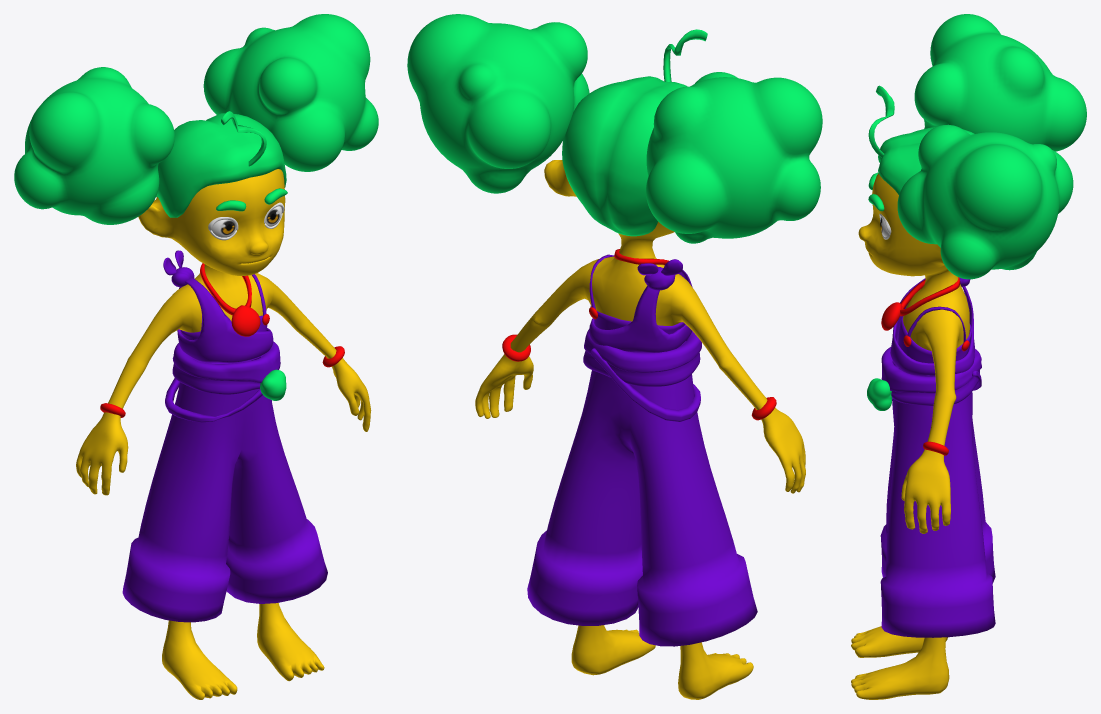
File: Mode_Urle.fbx
The picture shows the model from 3 angles, left to right: view 1: azimuth 30°, elevation 25°; view 2: azimuth 150°, elevation 25°; view 3: azimuth 270°, elevation 25°; orthographic projection. The views are drawn at different scales.
Parts seen in each view (by area): view 1: Urle_Pants, Urle_Body, Urle_Hair_High_L, Urle_Hair_High_R, Urle_Scalp, Urle_Top_Loose_, Urle_Belt, Urle_Hand_R, Urle_Hand_L, Urle_Belt_Low, Urle_Jewlery, Urle_CloudAccessory (+1 smaller); view 2: Urle_Pants, Urle_Hair_High_R, Urle_Hair_High_L, Urle_Body, Urle_Scalp, Urle_Belt, Urle_Top_Loose_, Urle_Hand_R, Urle_Hand_L, Urle_Belt_Low, Urle_StrandOfHair; view 3: Urle_Pants, Urle_Hair_High_L, Urle_Hair_High_R, Urle_Body, Urle_Hand_L, Urle_Belt, Urle_Scalp, Urle_Top_Loose_, Urle_Top, Urle_CloudAccessory, Urle_Necklace, Urle_StrandOfHair (+1 smaller).
Part boxes in pixels (left/top/right/bottom): Urle_Pants: left=122, top=353, right=327, bottom=622; Urle_Body: left=108, top=169, right=336, bottom=699; Urle_Hair_High_L: left=203, top=14, right=378, bottom=171; Urle_Hair_High_R: left=14, top=67, right=174, bottom=224; Urle_Scalp: left=156, top=113, right=286, bottom=217; Urle_Top_Loose_: left=177, top=278, right=273, bottom=363; Urle_Belt: left=172, top=341, right=280, bottom=394; Urle_Hand_R: left=76, top=412, right=128, bottom=495; Urle_Hand_L: left=332, top=358, right=371, bottom=431; Urle_Belt_Low: left=165, top=378, right=262, bottom=422; Urle_Jewlery: left=231, top=305, right=260, bottom=336; Urle_CloudAccessory: left=260, top=369, right=286, bottom=400; Urle_Pants: left=527, top=341, right=757, bottom=646; Urle_Hair_High_R: left=646, top=72, right=822, bottom=243; Urle_Hair_High_L: left=407, top=14, right=589, bottom=193; Urle_Body: left=510, top=160, right=767, bottom=699; Urle_Scalp: left=562, top=76, right=687, bottom=236; Urle_Belt: left=583, top=329, right=701, bottom=386; Urle_Top_Loose_: left=589, top=269, right=692, bottom=352; Urle_Hand_R: left=761, top=407, right=805, bottom=493; Urle_Hand_L: left=475, top=342, right=533, bottom=418; Urle_Belt_Low: left=590, top=348, right=700, bottom=421; Urle_StrandOfHair: left=663, top=29, right=707, bottom=81; Urle_Pants: left=880, top=364, right=995, bottom=637; Urle_Hair_High_L: left=897, top=124, right=1073, bottom=279; Urle_Hair_High_R: left=914, top=14, right=1086, bottom=151; Urle_Body: left=851, top=173, right=969, bottom=699; Urle_Hand_L: left=901, top=449, right=950, bottom=533; Urle_Belt: left=881, top=347, right=981, bottom=405; Urle_Scalp: left=878, top=127, right=974, bottom=194; Urle_Top_Loose_: left=890, top=278, right=974, bottom=375; Urle_Top: left=898, top=316, right=971, bottom=363; Urle_CloudAccessory: left=867, top=378, right=892, bottom=410; Urle_Necklace: left=900, top=277, right=960, bottom=316; Urle_StrandOfHair: left=868, top=85, right=894, bottom=157.
Bounding box in the file's own units: 157 × 250 × 90.89.
